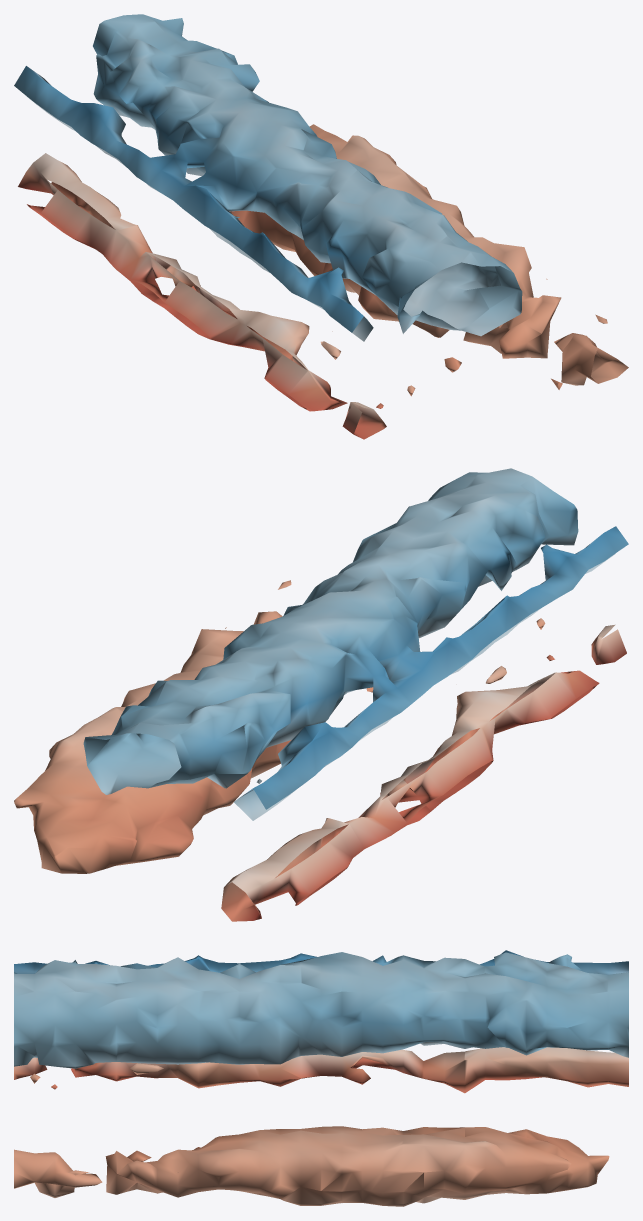
3 renders of one model, top to bottom at view 1: azimuth 30°, elevation 25°; view 2: azimuth 150°, elevation 25°; view 3: azimuth 270°, elevation 25°, orthographic. The views are drawn at different scales.
Size of the model in its own units: 1.28 by 0.8015 by 2.5.
